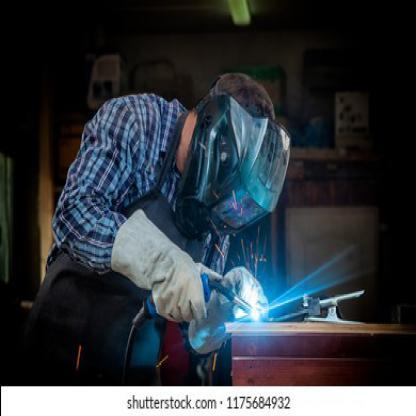Gloves: (110, 206, 222, 322), (188, 260, 269, 357)
